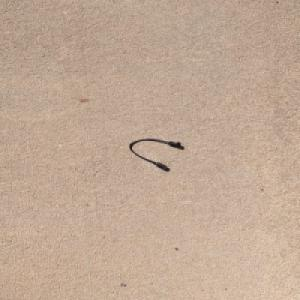Wire: (129, 137, 184, 169)
